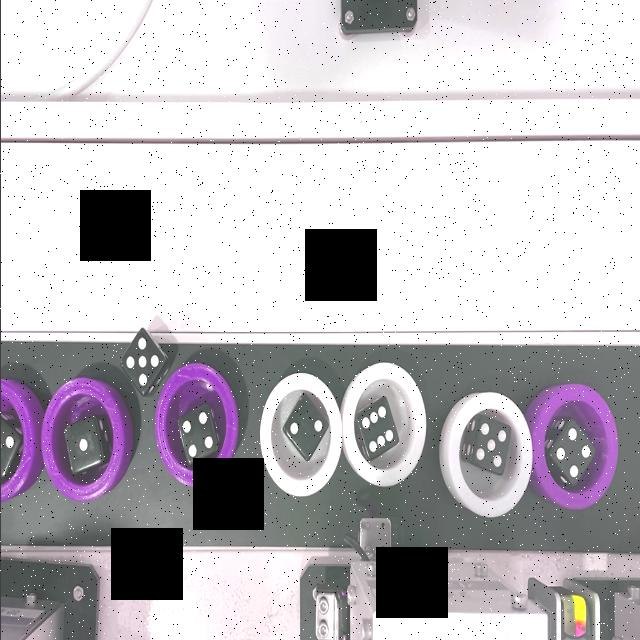DICE1: (75, 435, 97, 458)
DICE2: (286, 412, 324, 442)
DICE3: (0, 434, 15, 464)
DICE4: (556, 430, 593, 482), (182, 411, 214, 459)
DICE5: (125, 337, 162, 389), (472, 422, 508, 472)
DICE6: (361, 406, 393, 456)
RedChip: (530, 382, 616, 508), (41, 378, 123, 501), (155, 362, 235, 488), (0, 379, 33, 504)
WhiteChip: (341, 361, 425, 489), (449, 392, 533, 518), (259, 370, 341, 496)
